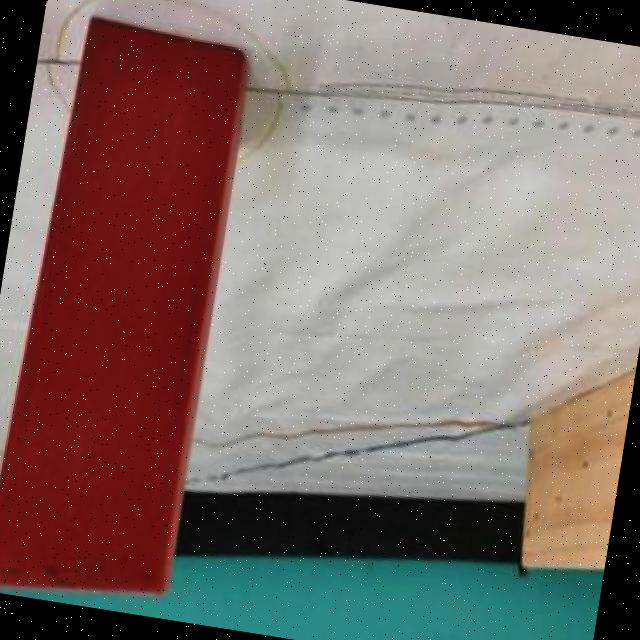redbox: (0, 11, 252, 614)
